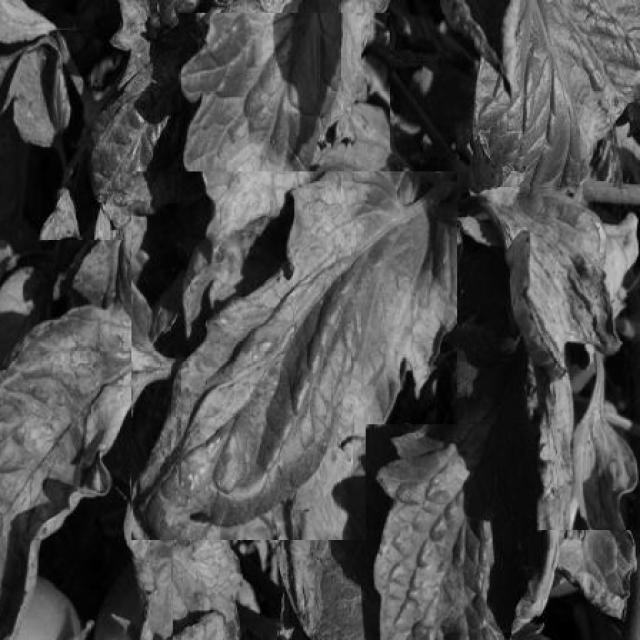Late Blight: (132, 171, 458, 540), (0, 240, 173, 640), (467, 187, 640, 530), (179, 13, 390, 260), (448, 4, 640, 192), (365, 424, 512, 640)
